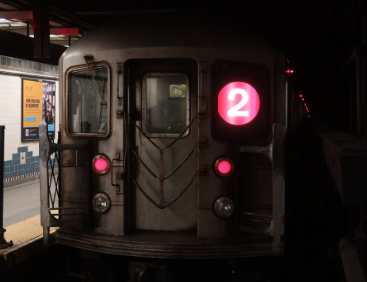train: (40, 17, 296, 259)
